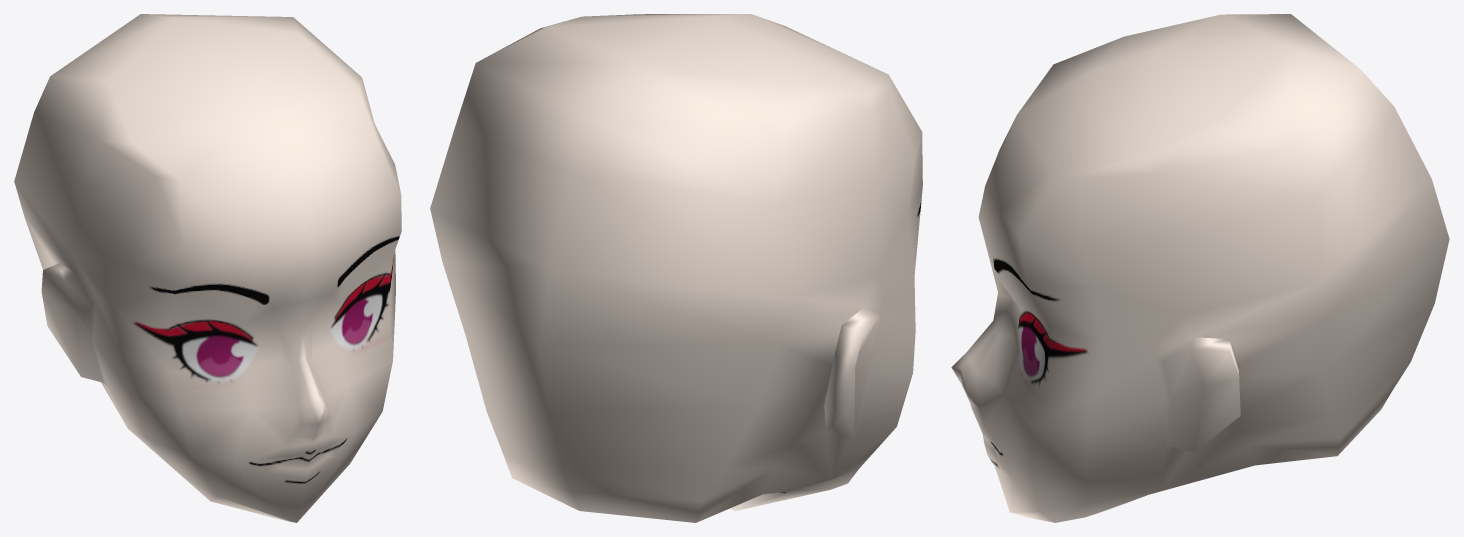
Rendered from W-head.fbx.
3 renders of one model, left to right at view 1: azimuth 30°, elevation 25°; view 2: azimuth 150°, elevation 25°; view 3: azimuth 270°, elevation 25°, orthographic. The views are drawn at different scales.
Visible parts, largest first — view 1: W-Heard; view 2: W-Heard; view 3: W-Heard.
Boxes of the visible parts, <box> form: W-Heard: <box>14,14,401,522</box>; W-Heard: <box>430,14,922,522</box>; W-Heard: <box>951,14,1449,522</box>.
Size of the model in its own units: 19.96 by 25.65 by 24.63.
1 material, 1 textured.
